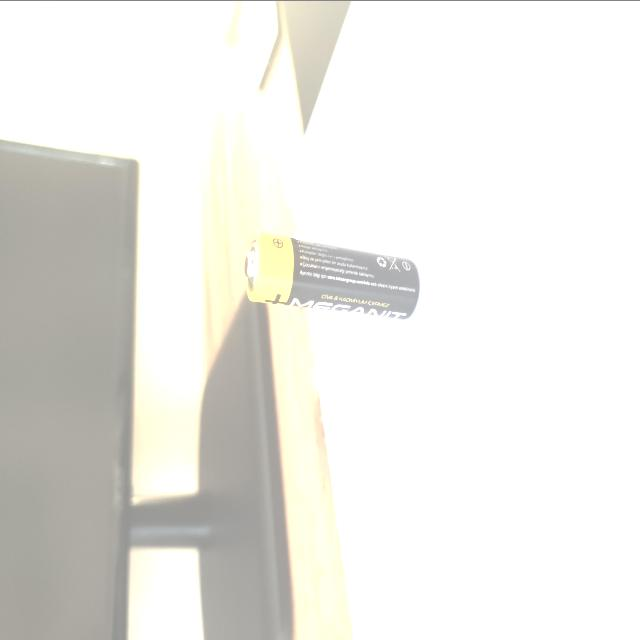AA: (243, 226, 423, 322)
